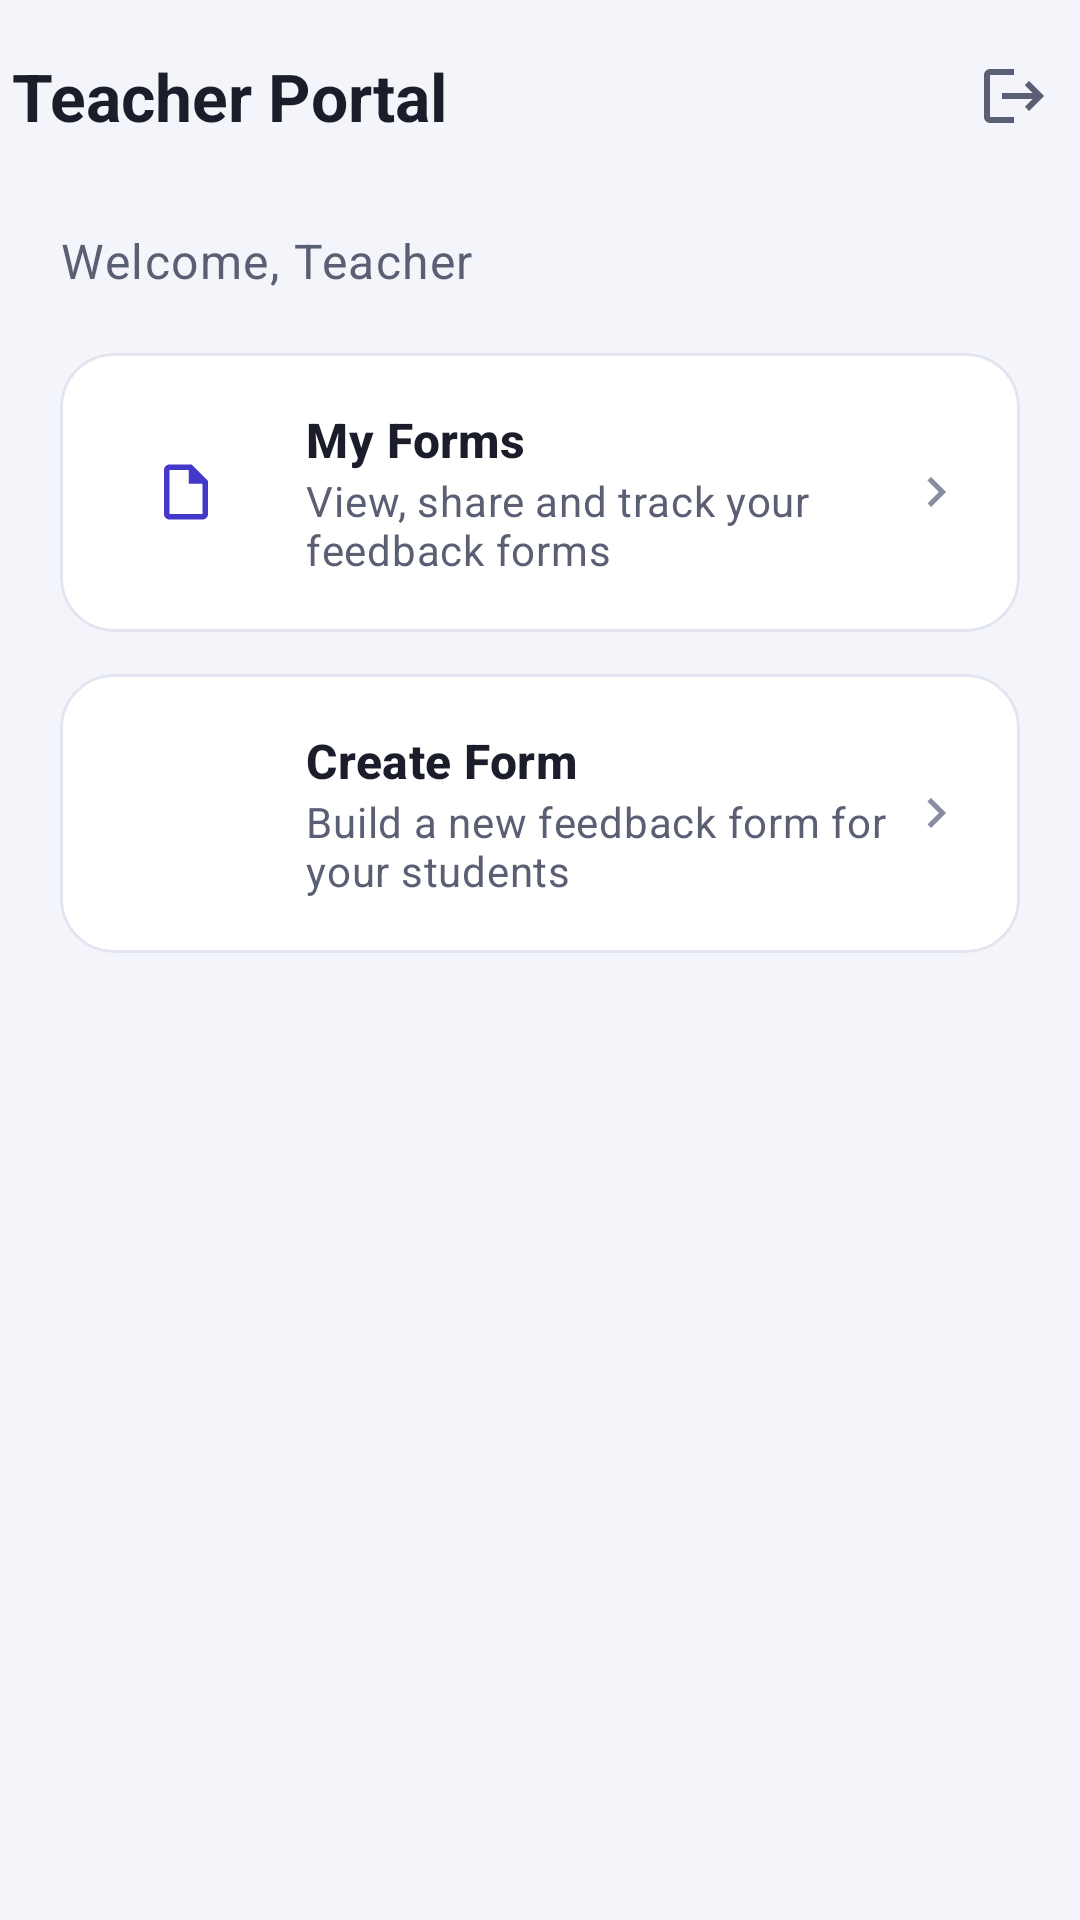

Icon bounding boxes for this 1080*1920 phone screenshot, format (left=x1, top=y1, right=x2, bottom=y2):
chevron right: (left=927, top=477, right=946, bottom=507), (left=927, top=798, right=946, bottom=828)
description: (left=164, top=464, right=208, bottom=520)
